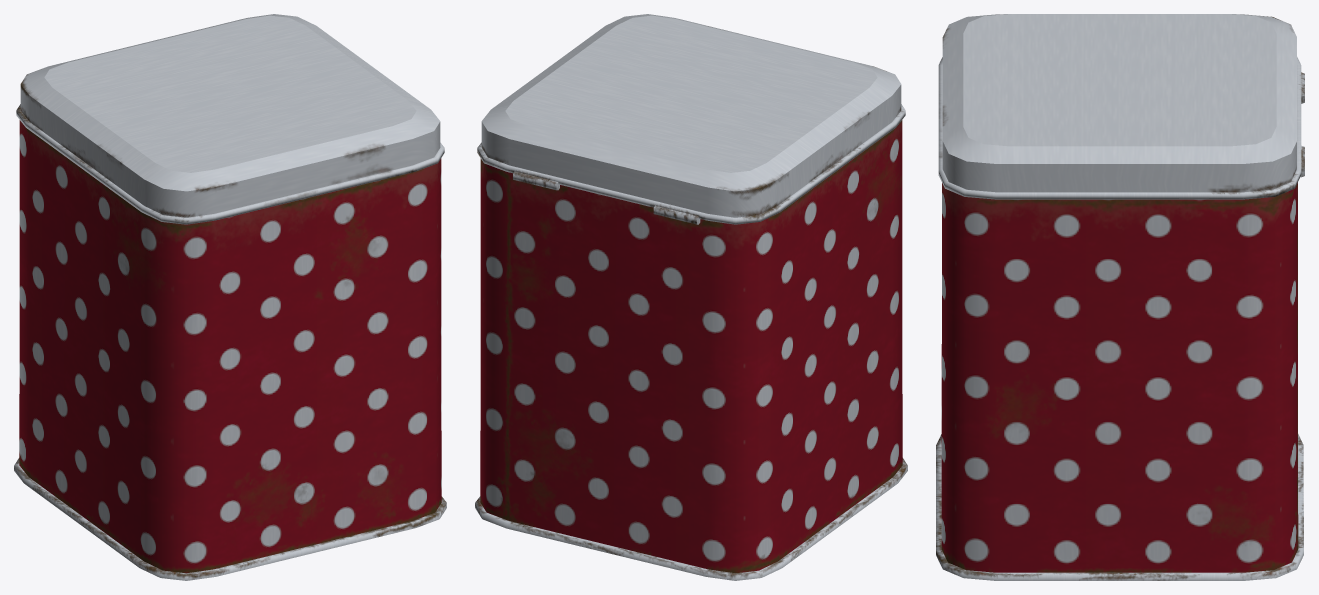
The model's file is FoodBox01.FBX.
The picture shows the model from 3 angles, left to right: view 1: azimuth 30°, elevation 25°; view 2: azimuth 150°, elevation 25°; view 3: azimuth 270°, elevation 25°; orthographic projection. The views are drawn at different scales.
Parts seen in each view (by area): view 1: FoodBox01_LOD0; view 2: FoodBox01_LOD0; view 3: FoodBox01_LOD0.
Boxes of the visible parts, bbox=[...] form: FoodBox01_LOD0: bbox=[14, 14, 446, 580]; FoodBox01_LOD0: bbox=[475, 14, 907, 580]; FoodBox01_LOD0: bbox=[936, 14, 1304, 580].
Bounding box in the file's own units: 13.41 × 13.46 × 17.05.
